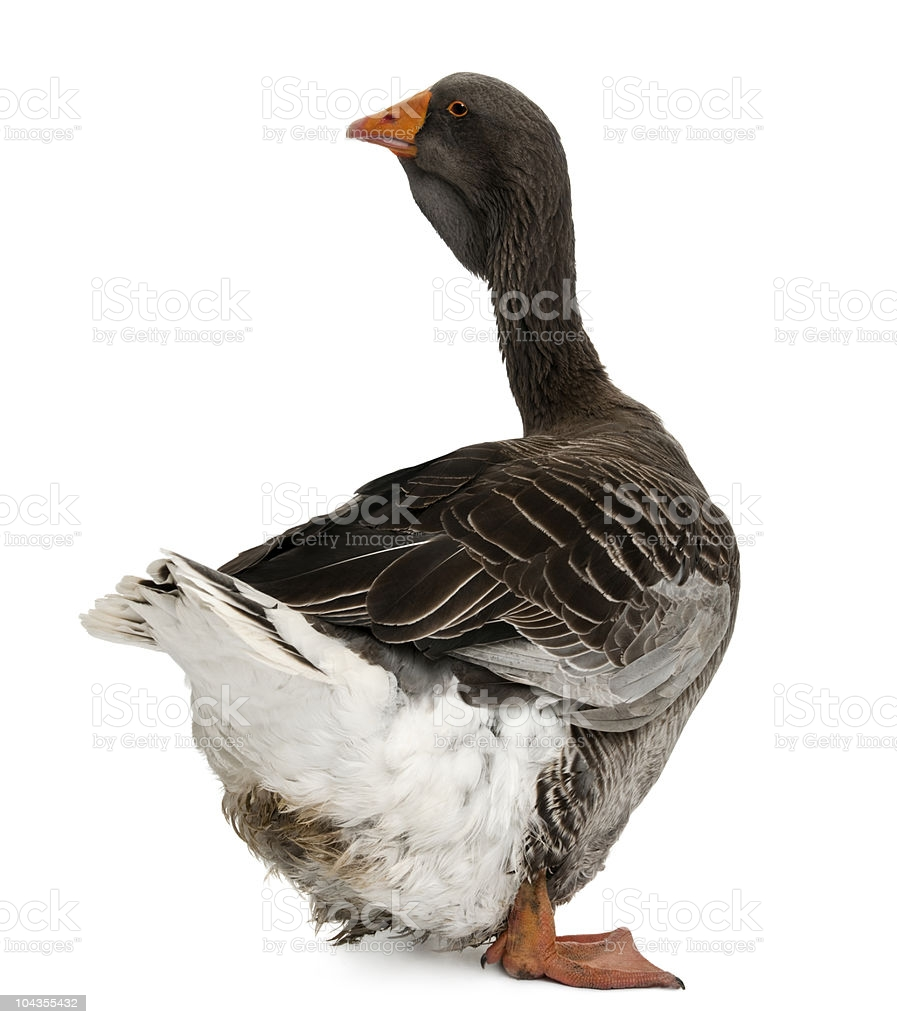goose: (76, 64, 750, 997)
